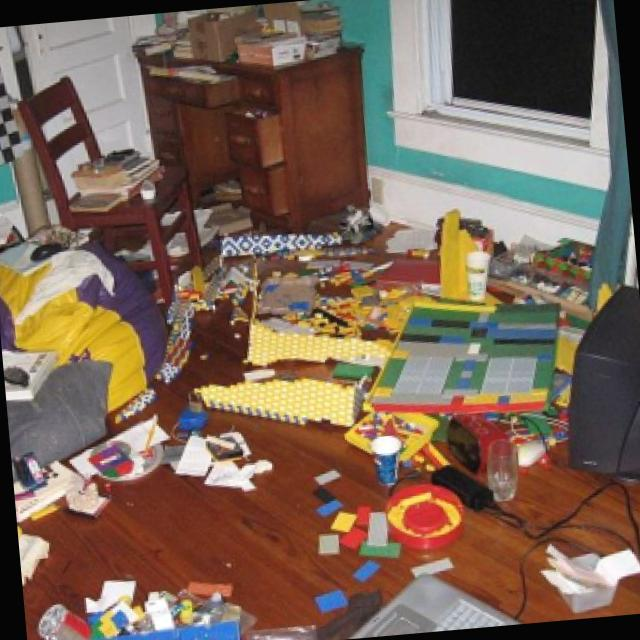mess: (212, 208, 560, 578), (125, 31, 382, 254), (14, 443, 300, 640), (0, 211, 174, 485), (149, 0, 353, 81), (77, 130, 193, 255)
